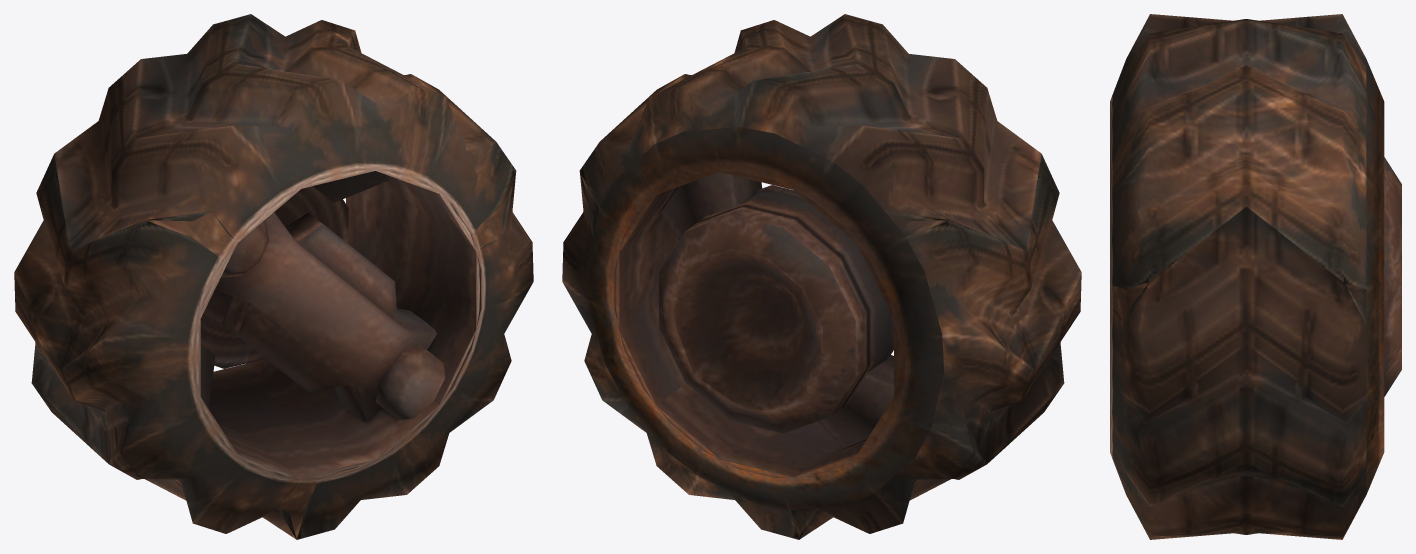
The model's file is Cheetah_WheelBackLeft.DAE.
The picture shows the model from 3 angles, left to right: view 1: azimuth 30°, elevation 25°; view 2: azimuth 150°, elevation 25°; view 3: azimuth 270°, elevation 25°; orthographic projection. The views are drawn at different scales.
Visible parts, largest first — view 1: TireBack_LOD300, TireBack_LOD100, TireBack_LOD200; view 2: TireBack_LOD300, TireBack_LOD100, TireBack_LOD200; view 3: TireBack_LOD300, TireBack_LOD200.
Boxes of the visible parts, x1,y1,x2,y2 form: TireBack_LOD300: (14,14,533,539); TireBack_LOD100: (200,171,476,477); TireBack_LOD200: (15,14,532,539); TireBack_LOD300: (562,14,1081,539); TireBack_LOD100: (619,175,893,477); TireBack_LOD200: (563,14,1058,539); TireBack_LOD300: (1110,15,1401,539); TireBack_LOD200: (1110,14,1401,539).
Size of what is drawn, in the model's own units: 1.68 by 0.9379 by 1.68.
1 material, 1 textured.
